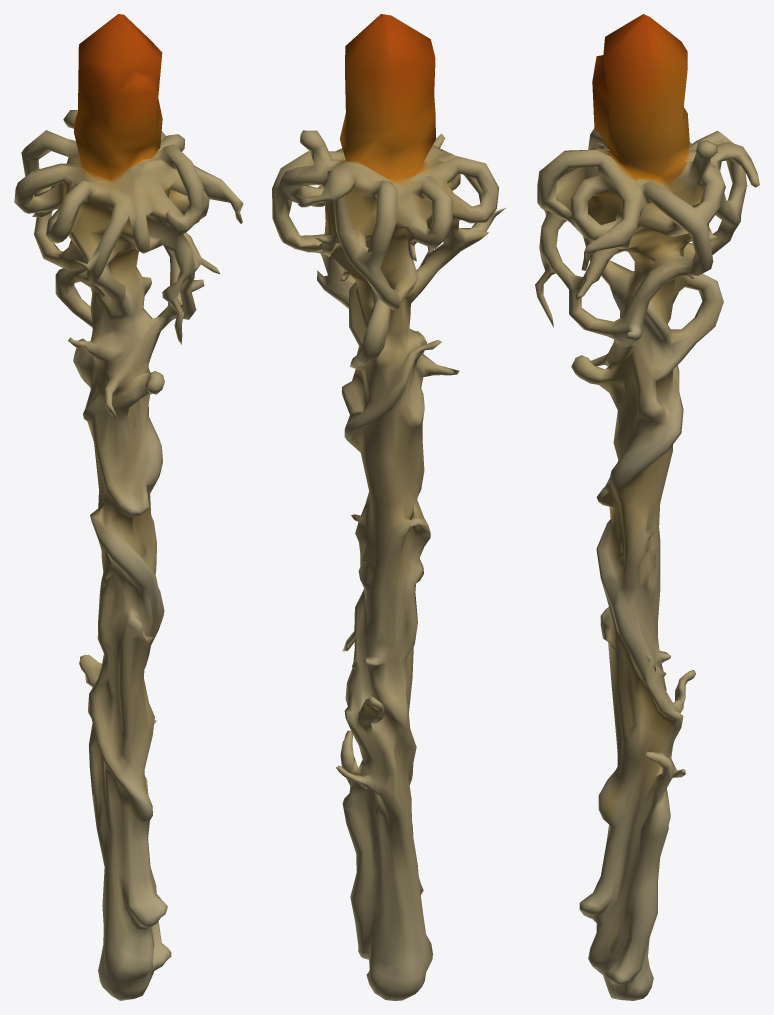
File: staff.glb
3 views of the same model, side by side, from view 1: azimuth 30°, elevation 25°; view 2: azimuth 150°, elevation 25°; view 3: azimuth 270°, elevation 25° (orthographic).
Visible parts, largest first — view 1: base_model_path; view 2: base_model_path; view 3: base_model_path.
Part boxes in pixels (left/top/right/bottom): base_model_path: left=14, top=14, right=243, bottom=1000; base_model_path: left=272, top=14, right=506, bottom=1000; base_model_path: left=535, top=14, right=759, bottom=1000.
Bounding box in the file's own units: 0.1957 × 1 × 0.2074.
1 material, 1 textured.
